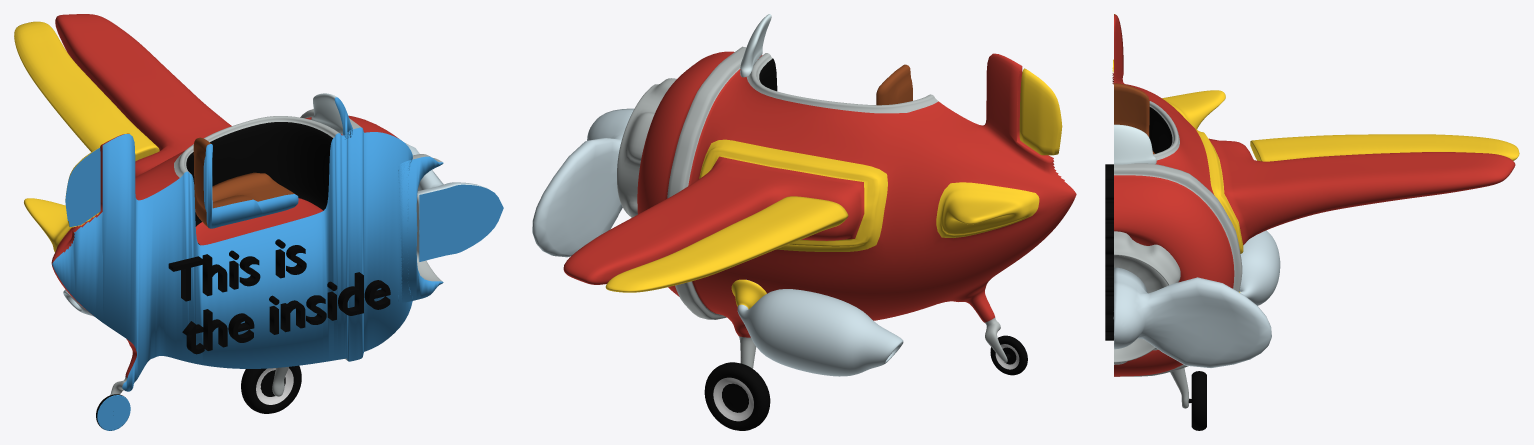
Rendered from avionHalf5.gltf.
3 renders of one model, left to right at view 1: azimuth 30°, elevation 25°; view 2: azimuth 150°, elevation 25°; view 3: azimuth 270°, elevation 25°, orthographic. The views are drawn at different scales.
Parts seen in each view (by area): view 1: Cylinder.010; view 2: Cylinder.010; view 3: Cylinder.010.
Part boxes in pixels (x1,y1,x2,y2): Cylinder.010: [14, 14, 503, 430]; Cylinder.010: [532, 14, 1076, 430]; Cylinder.010: [1105, 14, 1519, 430].
Size of the model in its own units: 8.59 by 6.55 by 7.58.
